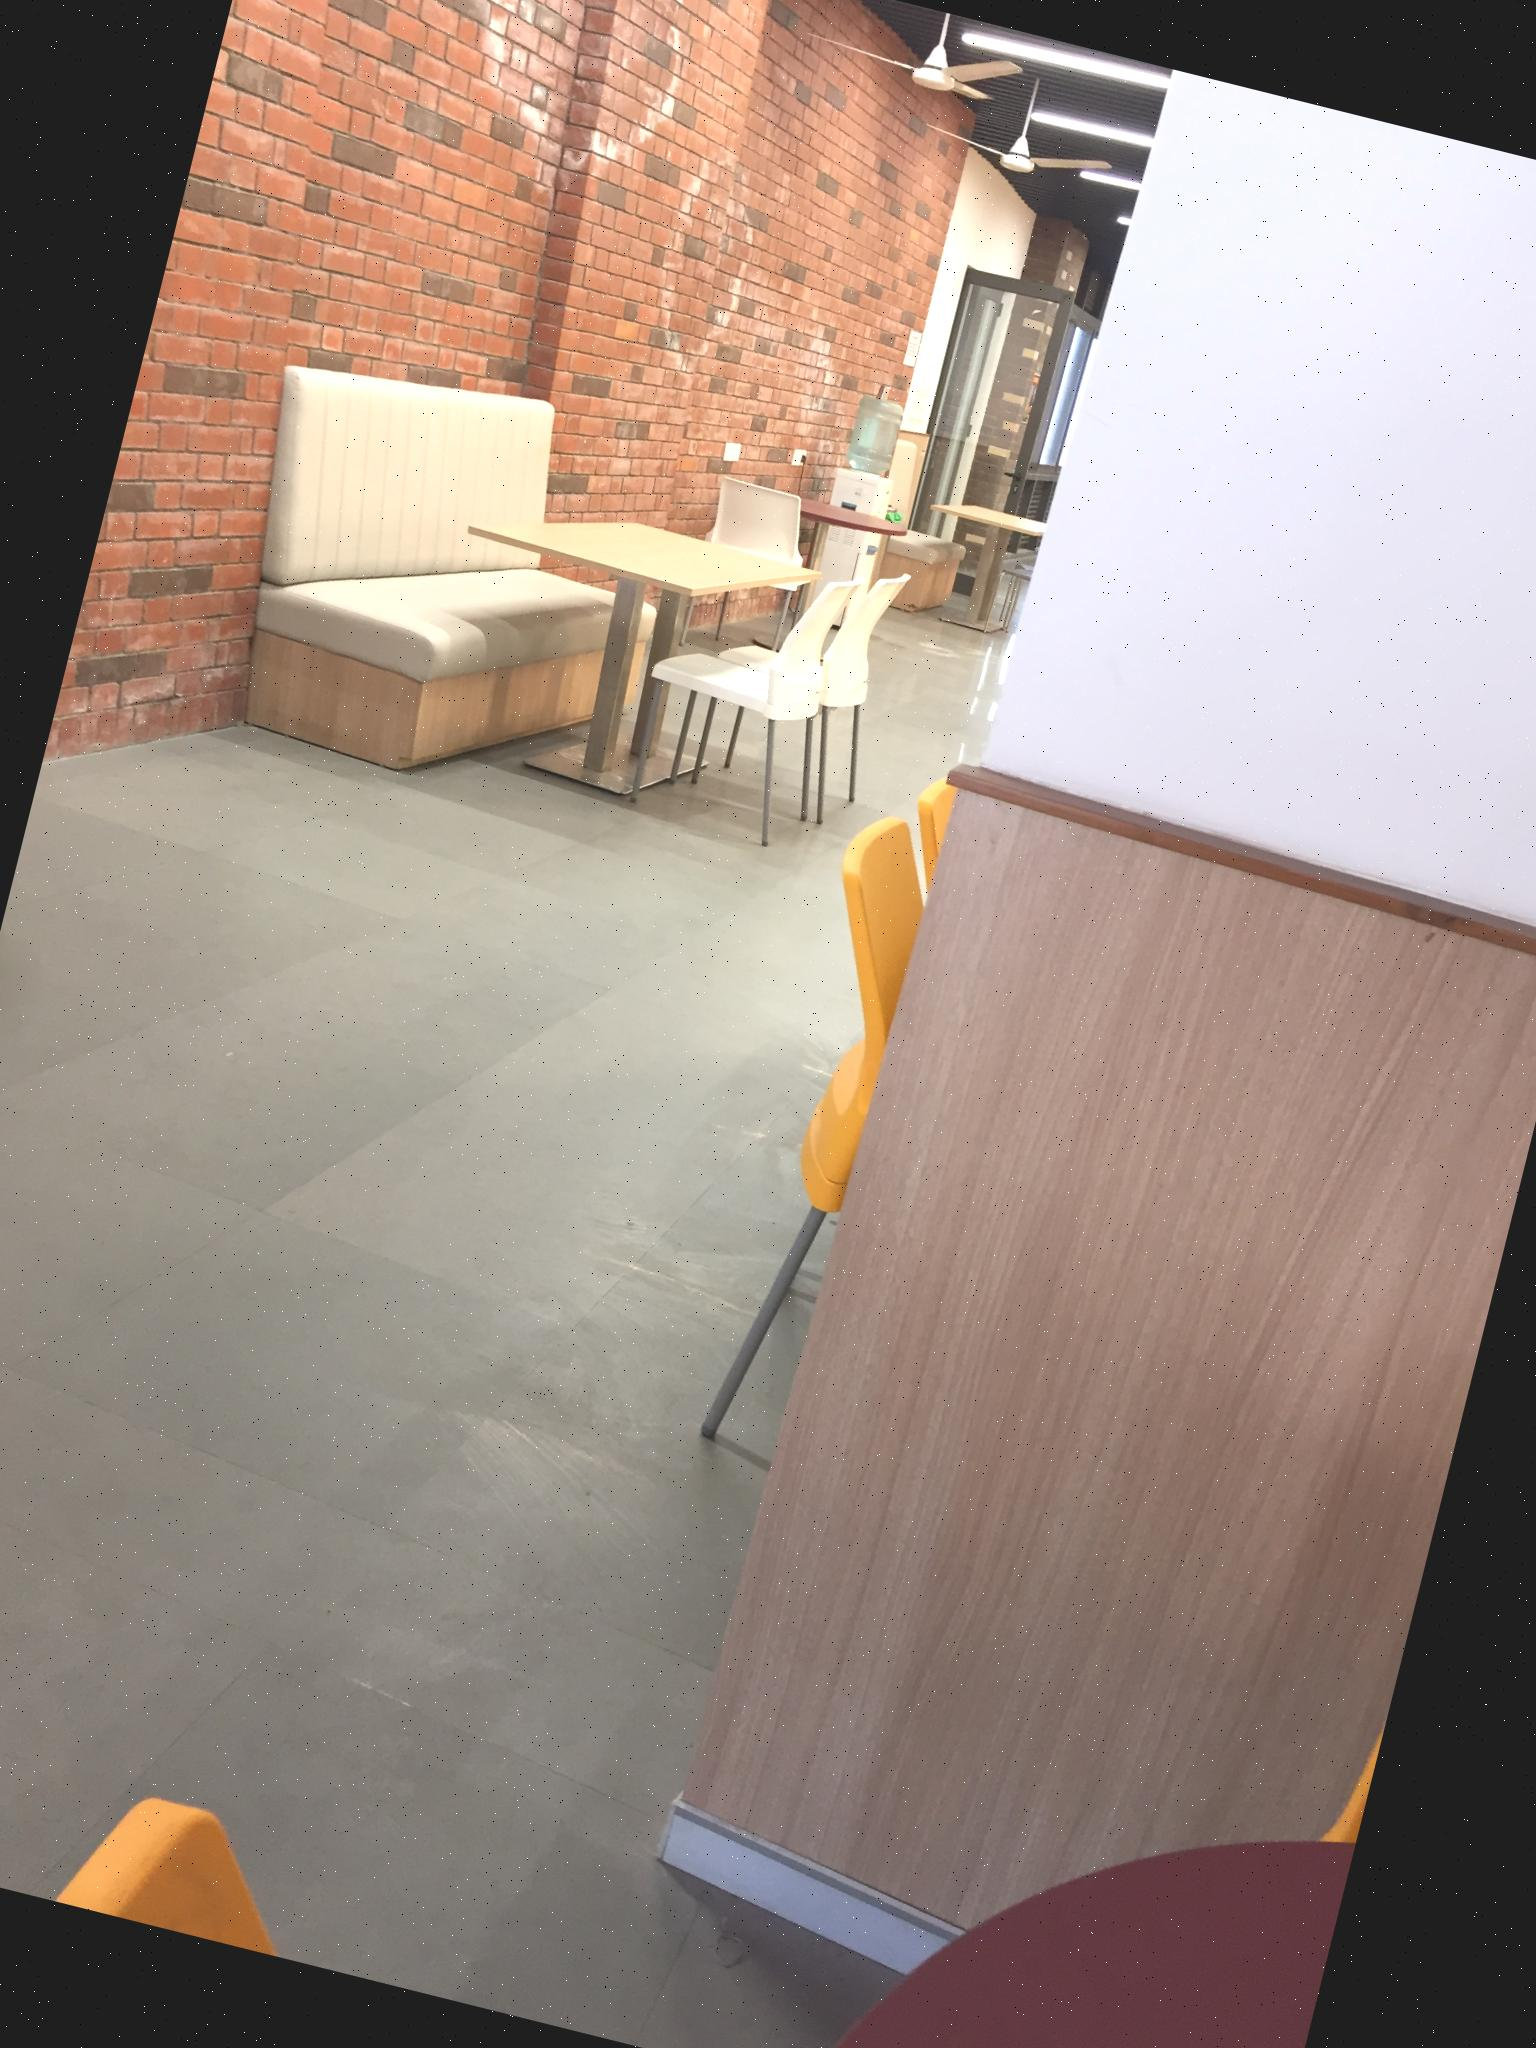chair: (695, 803, 944, 1459), (557, 508, 957, 884), (615, 534, 873, 856), (0, 1716, 311, 1956)
